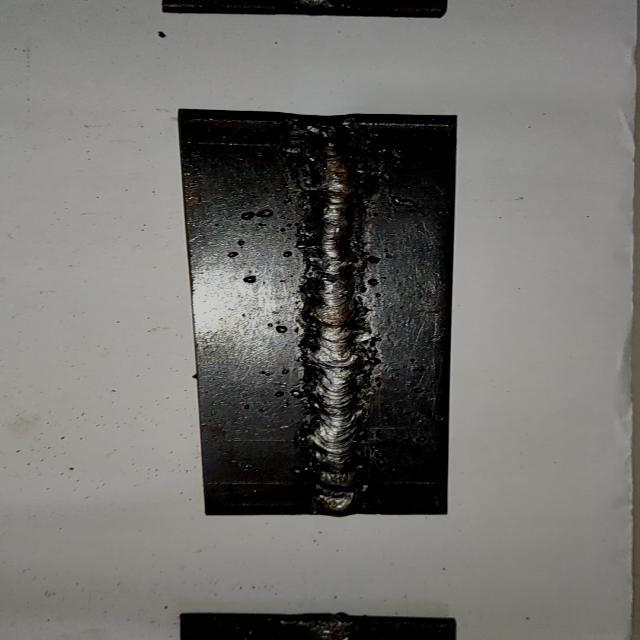Defect: (290, 118, 368, 161)
Welding Line: (306, 124, 364, 514)
Workpiece: (177, 110, 467, 518)
